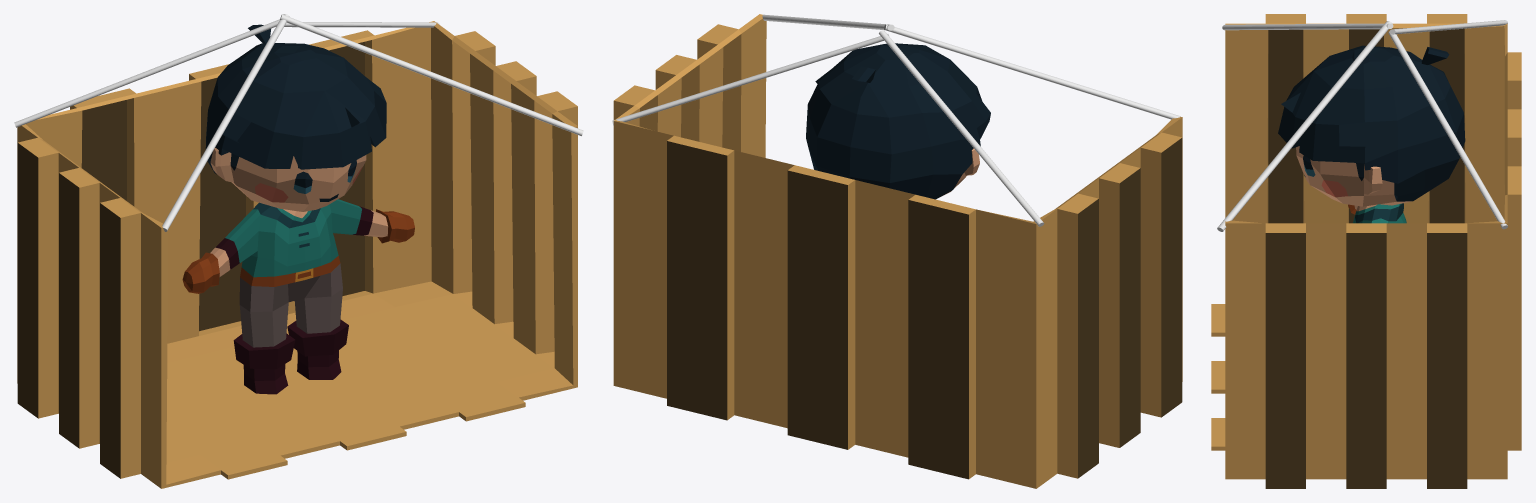
The model's file is basket.fbx.
3 renders of one model, left to right at view 1: azimuth 30°, elevation 25°; view 2: azimuth 150°, elevation 25°; view 3: azimuth 270°, elevation 25°, orthographic. The views are drawn at different scales.
Parts seen in each view (by area): view 1: Cube, Cylinder.004, Cylinder.001, Cylinder, Cylinder.003, Cylinder.002; view 2: Cube, Cylinder.004, Cylinder, Cylinder.003, Cylinder.002, Cylinder.001; view 3: Cube, Cylinder.004, Cylinder.001, Cylinder.002, Cylinder, Cylinder.003.
Part boxes in pixels (box(x1,y1,x2,y2)): Cube: box(17, 21, 577, 488); Cylinder.004: box(182, 24, 414, 394); Cylinder.001: box(280, 14, 583, 136); Cylinder: box(162, 14, 289, 231); Cylinder.003: box(14, 19, 279, 127); Cylinder.002: box(284, 22, 439, 27); Cube: box(613, 14, 1182, 488); Cylinder.004: box(806, 43, 990, 199); Cylinder: box(884, 24, 1180, 119); Cylinder.003: box(879, 30, 1044, 226); Cylinder.002: box(612, 34, 888, 124); Cylinder.001: box(762, 14, 894, 30); Cube: box(1211, 14, 1521, 488); Cylinder.004: box(1278, 45, 1465, 223); Cylinder.001: box(1217, 21, 1392, 231); Cylinder.002: box(1388, 31, 1507, 229); Cylinder: box(1222, 23, 1393, 30); Cylinder.003: box(1389, 20, 1507, 34).
Bounding box in the file's own units: 367 × 279 × 220.
